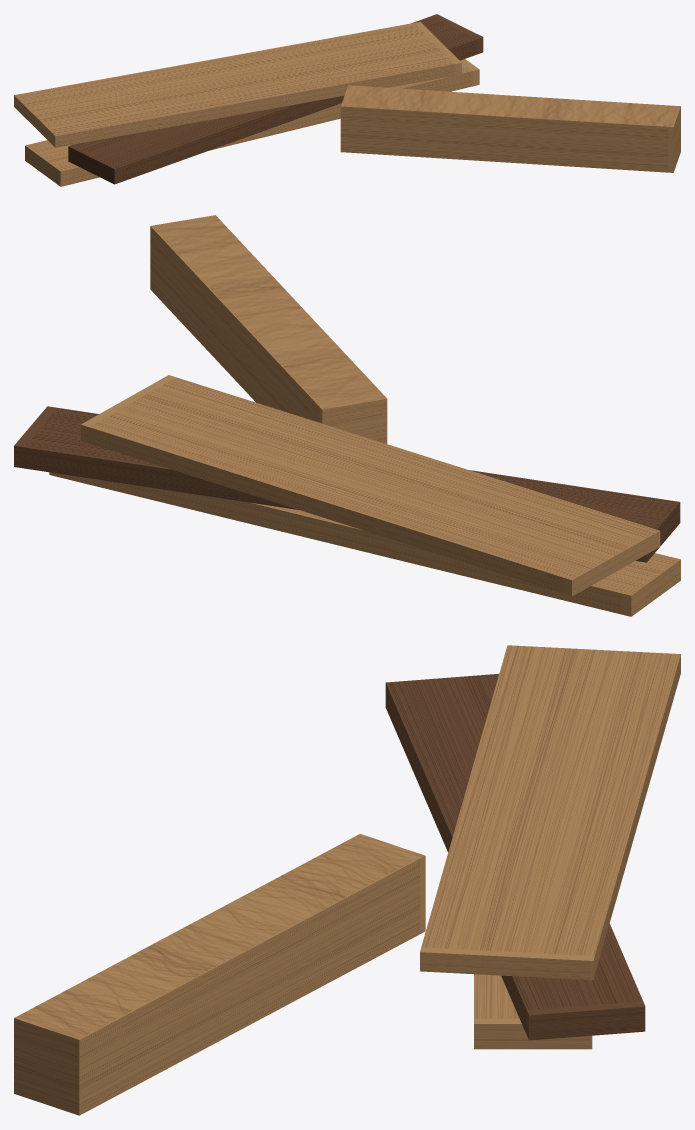
3 renders of one model, top to bottom at view 1: azimuth 30°, elevation 25°; view 2: azimuth 150°, elevation 25°; view 3: azimuth 270°, elevation 25°, orthographic. The views are drawn at different scales.
Bounding box in the file's own units: 2.75 × 0.24 × 1.92.
3 materials, 2 textured.
